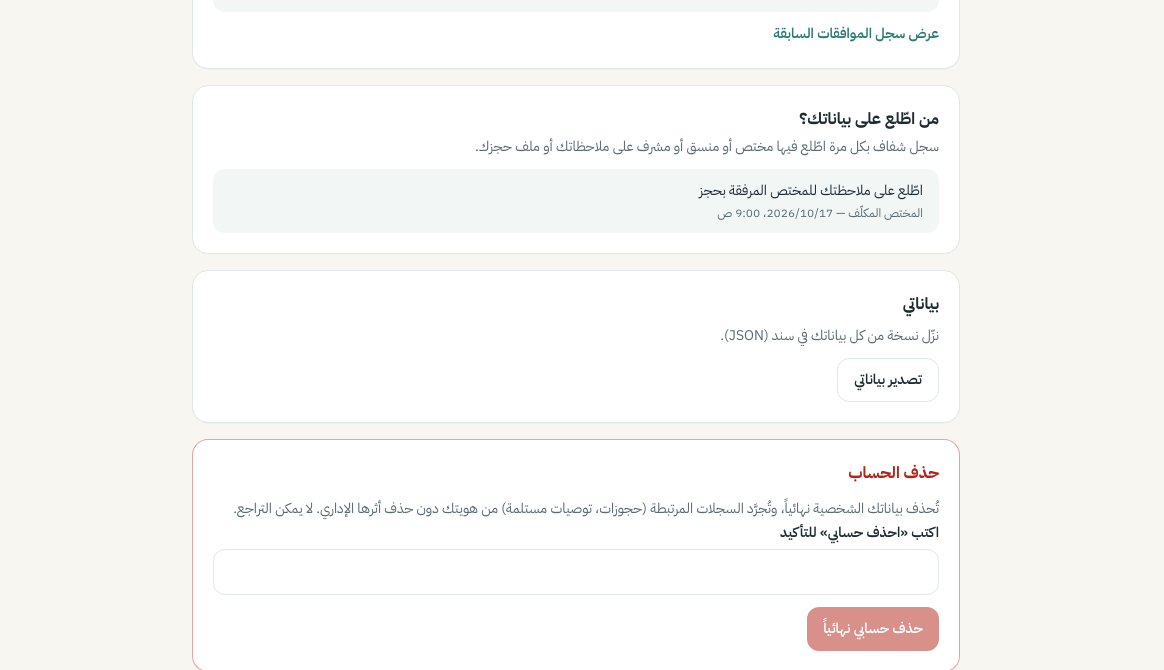
Test: حسابي › رفض الخادم للحذف يُعرض ولا تنتهي الجلسة
(page scrolled)
Type "احذف حسابي" into the field labelled "اكتب «احذف حسابي» للتأكيد" at (576, 572), box left=213, top=549, right=939, bottom=595
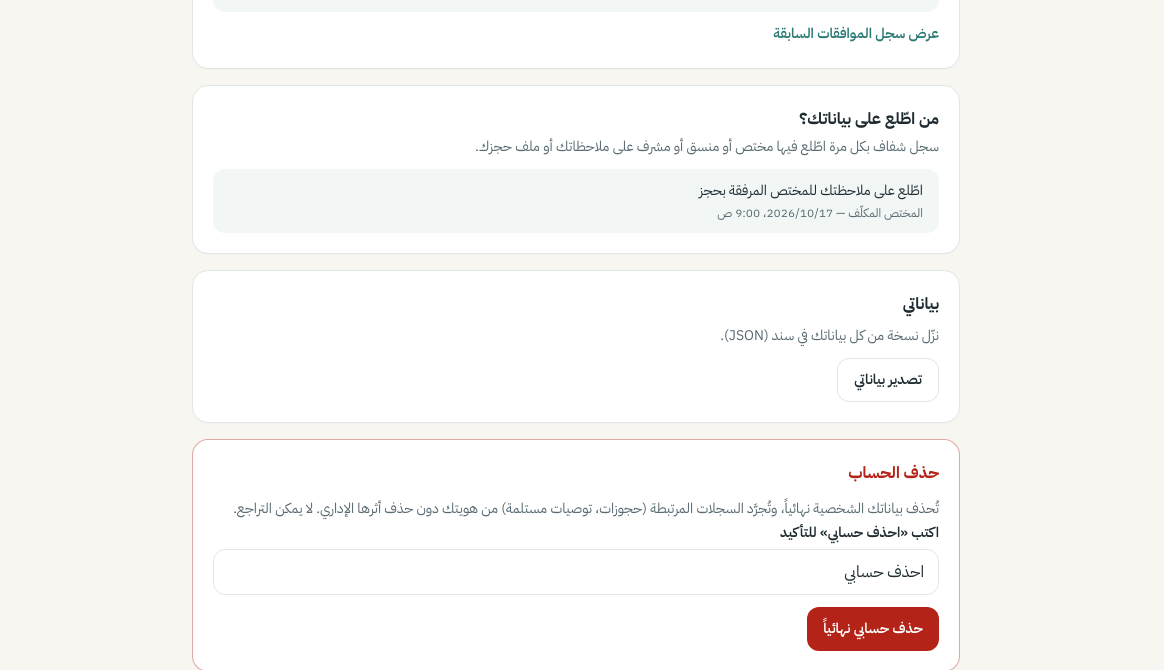
Click the button "حذف حسابي نهائياً" at (873, 629), box left=807, top=607, right=939, bottom=651
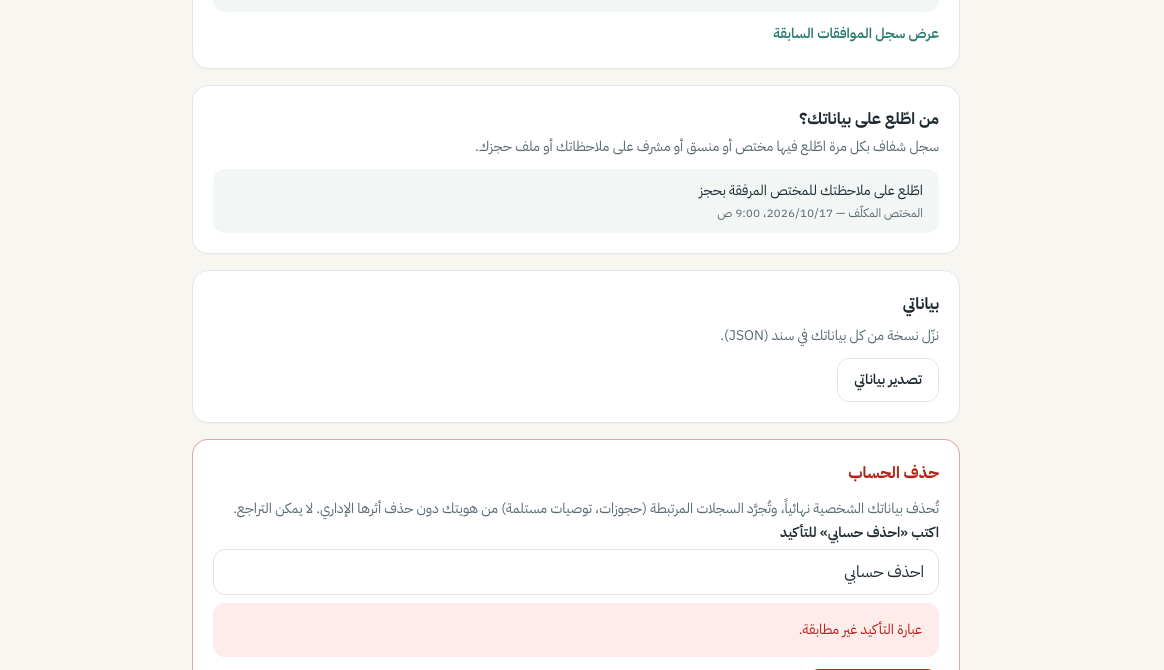
Now the text "عبارة التأكيد غير مطابقة." is shown, box left=799, top=619, right=922, bottom=640
